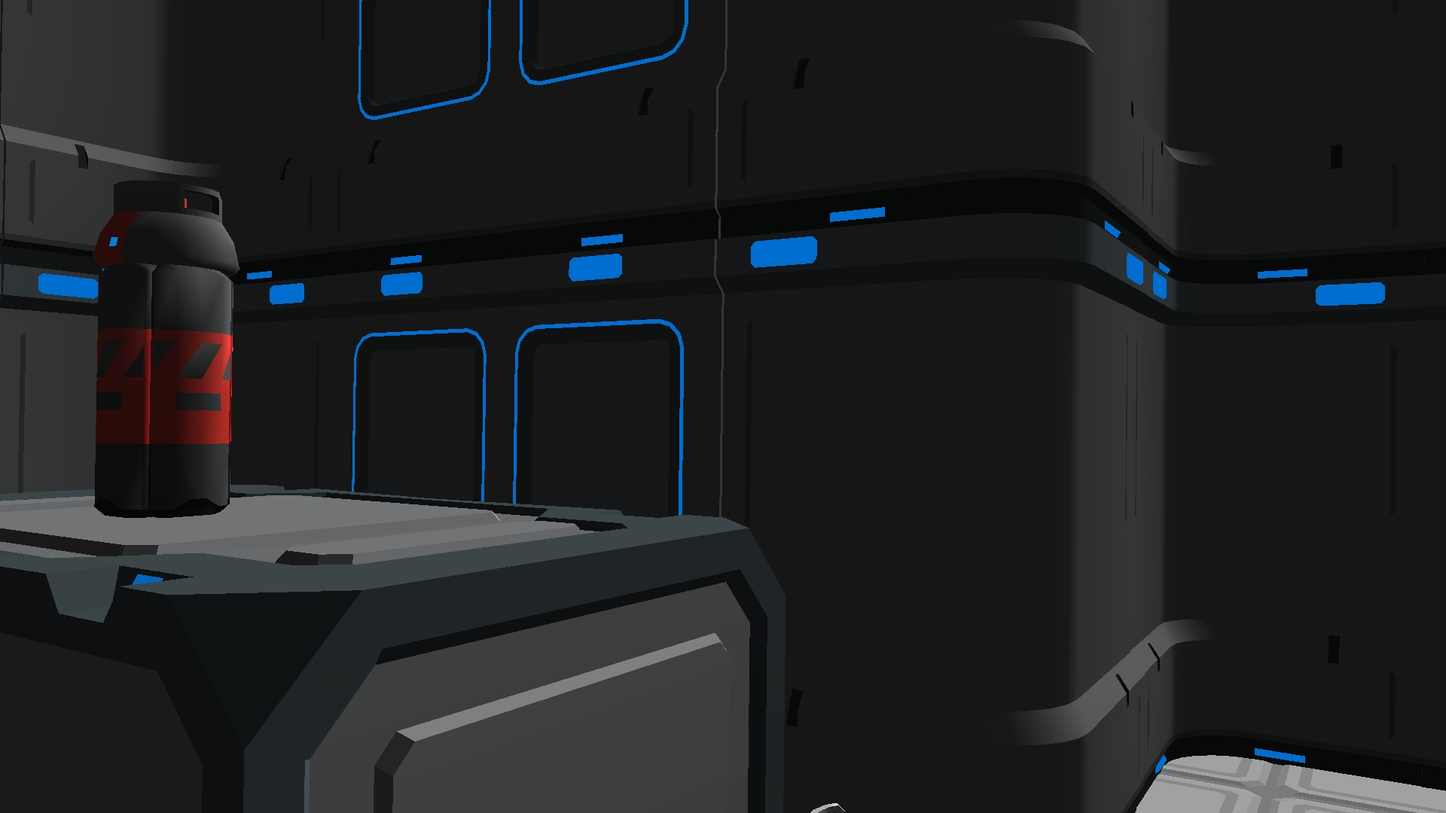red barrel: (94, 180, 240, 518)
